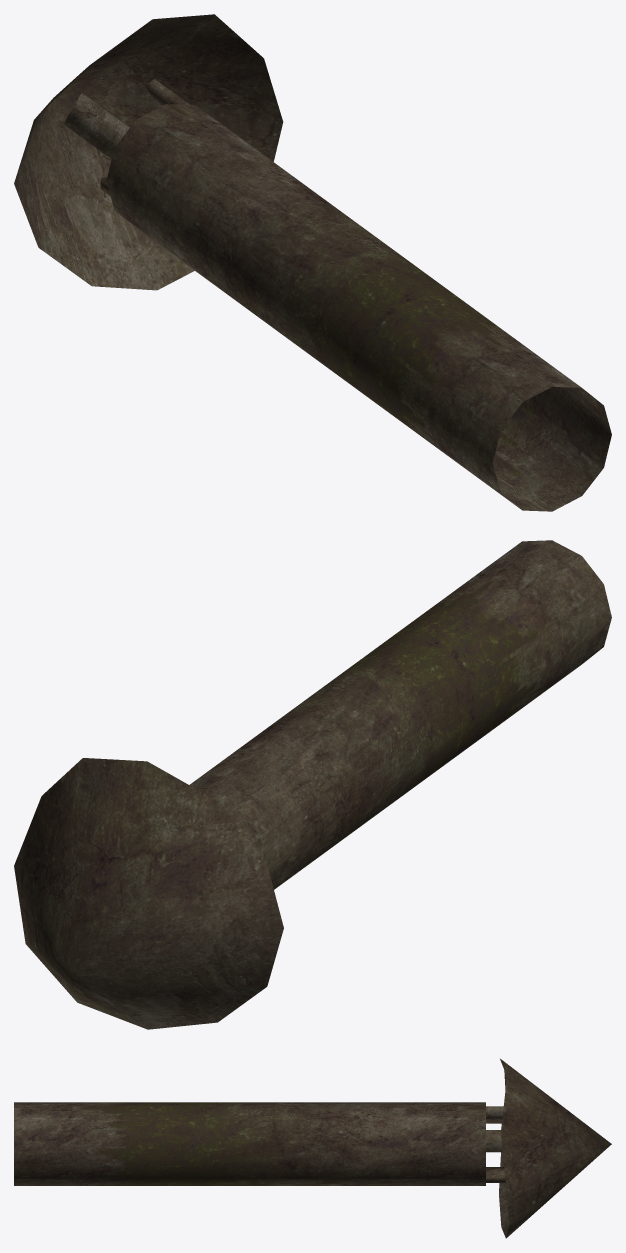
The model's file is TI_Chimney_01.fbx.
The picture shows the model from 3 angles, top to bottom: view 1: azimuth 30°, elevation 25°; view 2: azimuth 150°, elevation 25°; view 3: azimuth 270°, elevation 25°; orthographic projection. The views are drawn at different scales.
Parts seen in each view (by area): view 1: TI_Chimney_01; view 2: TI_Chimney_01; view 3: TI_Chimney_01.
Part boxes in pixels (left/top/right/bottom): TI_Chimney_01: left=14, top=14, right=611, bottom=511; TI_Chimney_01: left=14, top=540, right=611, bottom=1029; TI_Chimney_01: left=14, top=1058, right=611, bottom=1238.
Size of the model in its own units: 1.22 by 1.16 by 3.83.
